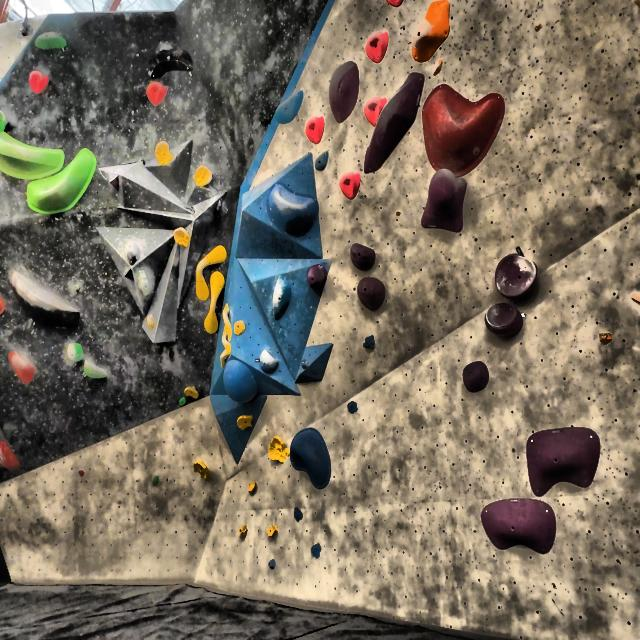Hold: (419, 90, 504, 178), (366, 76, 429, 174), (525, 419, 601, 499), (22, 146, 96, 218), (484, 498, 554, 564), (7, 268, 79, 330), (418, 172, 472, 238), (1, 135, 63, 189), (408, 0, 455, 67), (268, 180, 322, 236), (290, 428, 334, 492), (478, 299, 530, 353), (194, 242, 233, 300), (494, 254, 542, 298), (327, 59, 357, 127), (140, 45, 197, 77), (201, 270, 227, 336), (457, 352, 495, 397), (5, 344, 40, 392), (218, 362, 260, 402), (356, 278, 393, 317), (216, 298, 235, 368), (272, 89, 306, 128), (346, 240, 380, 271), (271, 270, 291, 322), (366, 31, 394, 64), (362, 93, 388, 128), (143, 77, 172, 108), (34, 28, 67, 53), (304, 263, 330, 293), (124, 235, 145, 272), (269, 432, 290, 468), (192, 160, 216, 188), (0, 439, 20, 472), (304, 116, 324, 148), (83, 360, 112, 382), (153, 138, 175, 166), (28, 70, 51, 96), (65, 340, 89, 364), (338, 173, 361, 198), (259, 347, 280, 374), (135, 272, 155, 300), (192, 460, 212, 485), (172, 226, 191, 249), (236, 413, 255, 432), (344, 398, 364, 416), (363, 330, 380, 351), (310, 538, 326, 560), (316, 146, 329, 173), (0, 108, 12, 134), (182, 383, 200, 399), (239, 521, 250, 547), (599, 325, 611, 347), (628, 289, 640, 311), (235, 318, 248, 338), (146, 311, 157, 332), (0, 291, 8, 316), (70, 282, 86, 294), (266, 528, 280, 540), (385, 0, 404, 8), (294, 507, 304, 522), (268, 558, 278, 571), (301, 359, 311, 370), (248, 479, 256, 492), (152, 478, 160, 489), (176, 399, 185, 408), (80, 469, 88, 479)
